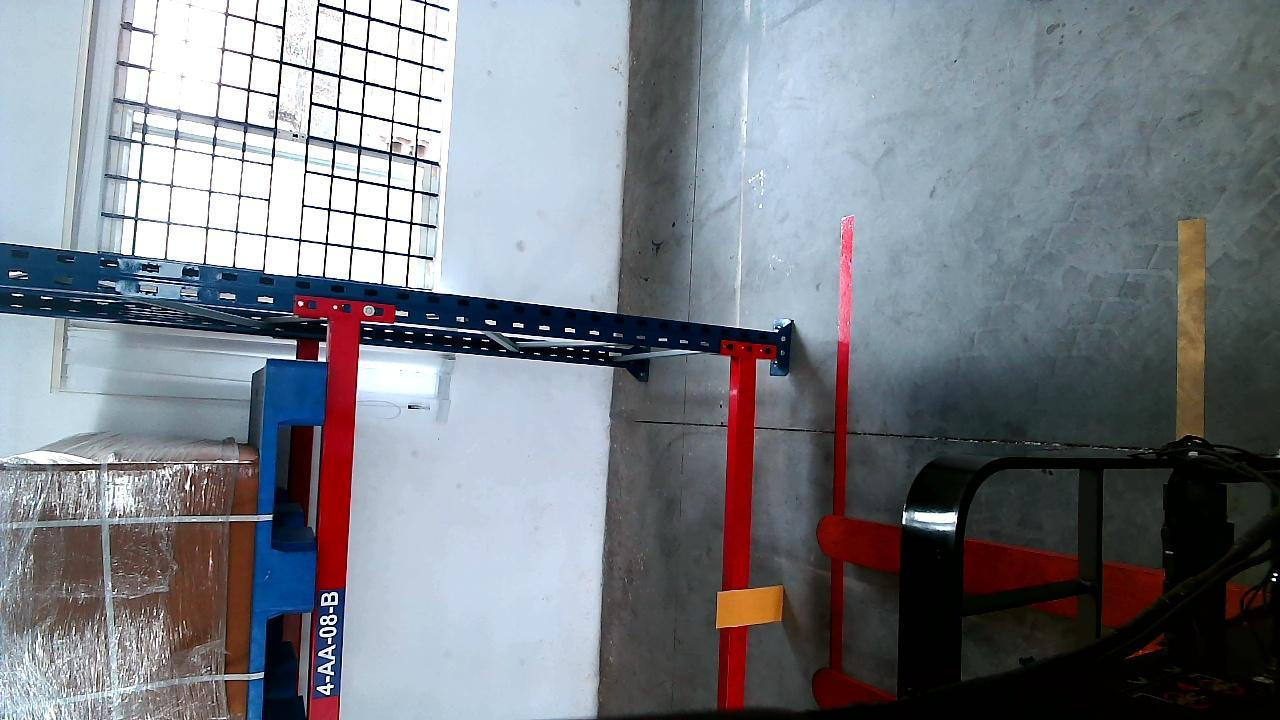red_line: (819, 217, 853, 720)
yellow_line: (1176, 210, 1205, 436)
